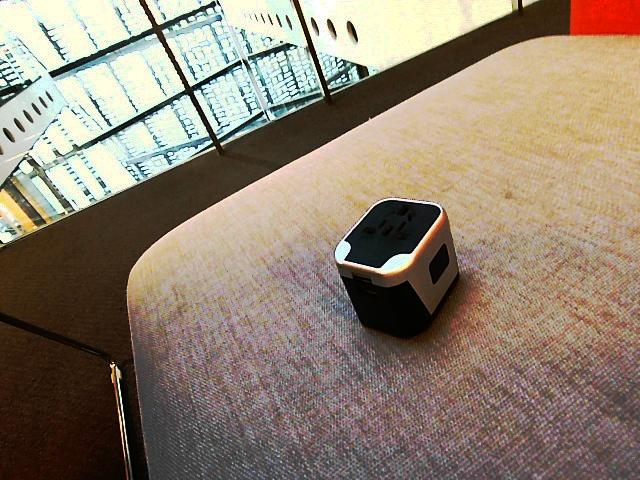adapter: (332, 196, 460, 338)
